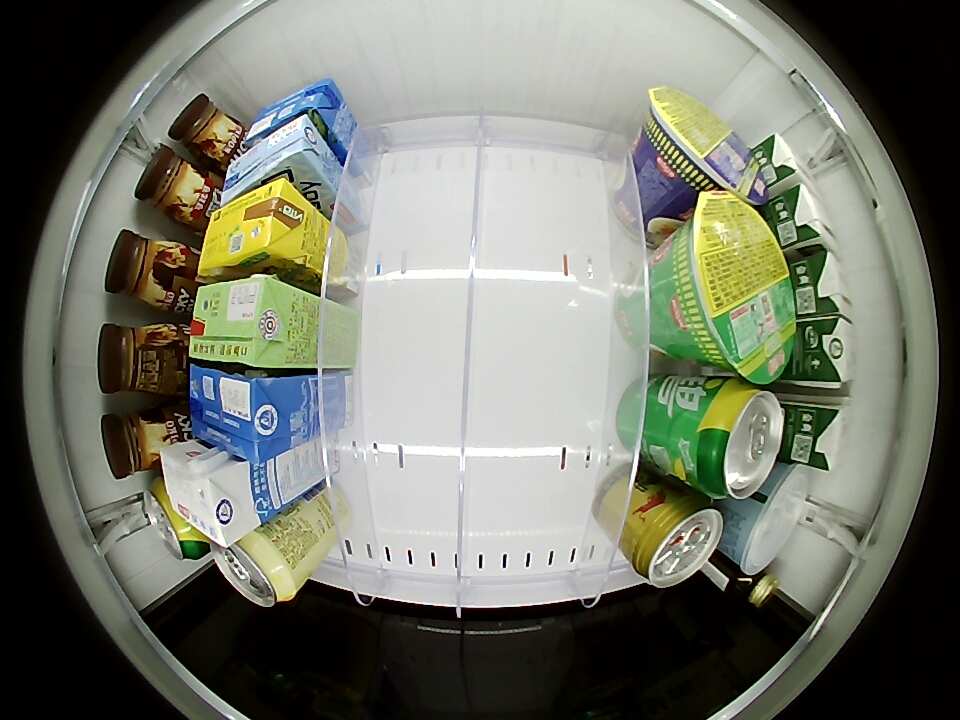haitai: (721, 462, 813, 576)
heweidao: (643, 86, 761, 203)
heweidao2: (667, 191, 795, 383)
hongniu2: (626, 492, 724, 588)
jindian: (788, 393, 853, 471), (752, 134, 824, 203), (779, 184, 840, 260), (797, 252, 855, 323), (800, 314, 856, 386)
libaojian: (718, 560, 781, 608)
lujikafei: (104, 228, 191, 313), (97, 322, 183, 397), (135, 147, 213, 228), (100, 404, 179, 478), (167, 93, 241, 164)
mangguoxiaolao: (211, 531, 298, 607)
niunai: (158, 442, 261, 550)
wanglaoji: (187, 275, 293, 368)
weitanai: (188, 364, 295, 462), (245, 80, 344, 145)
weitanaiditang: (220, 114, 326, 204)
weitaningmeng: (198, 180, 311, 280)
xuebi2: (682, 380, 785, 500), (143, 484, 201, 561)
